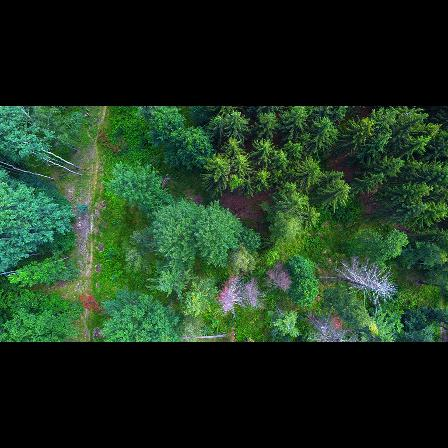Dead: (334, 262, 400, 307), (304, 311, 350, 343), (215, 274, 239, 312), (266, 266, 294, 293), (245, 280, 266, 310)
